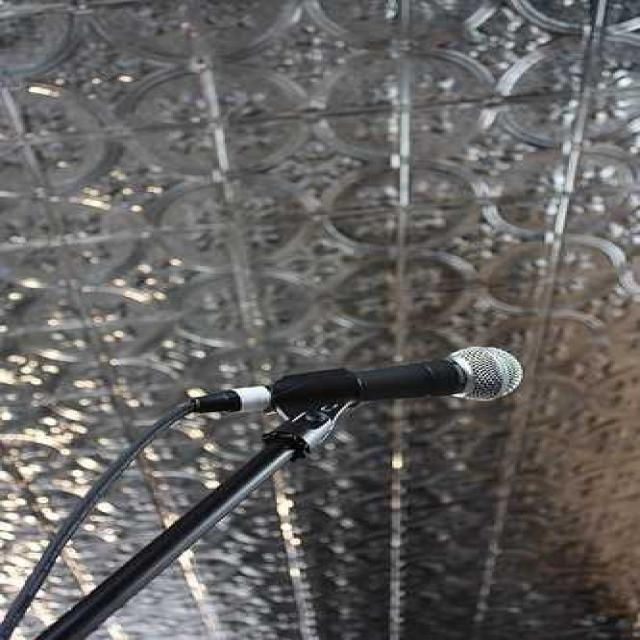microphone: (188, 348, 511, 424)
